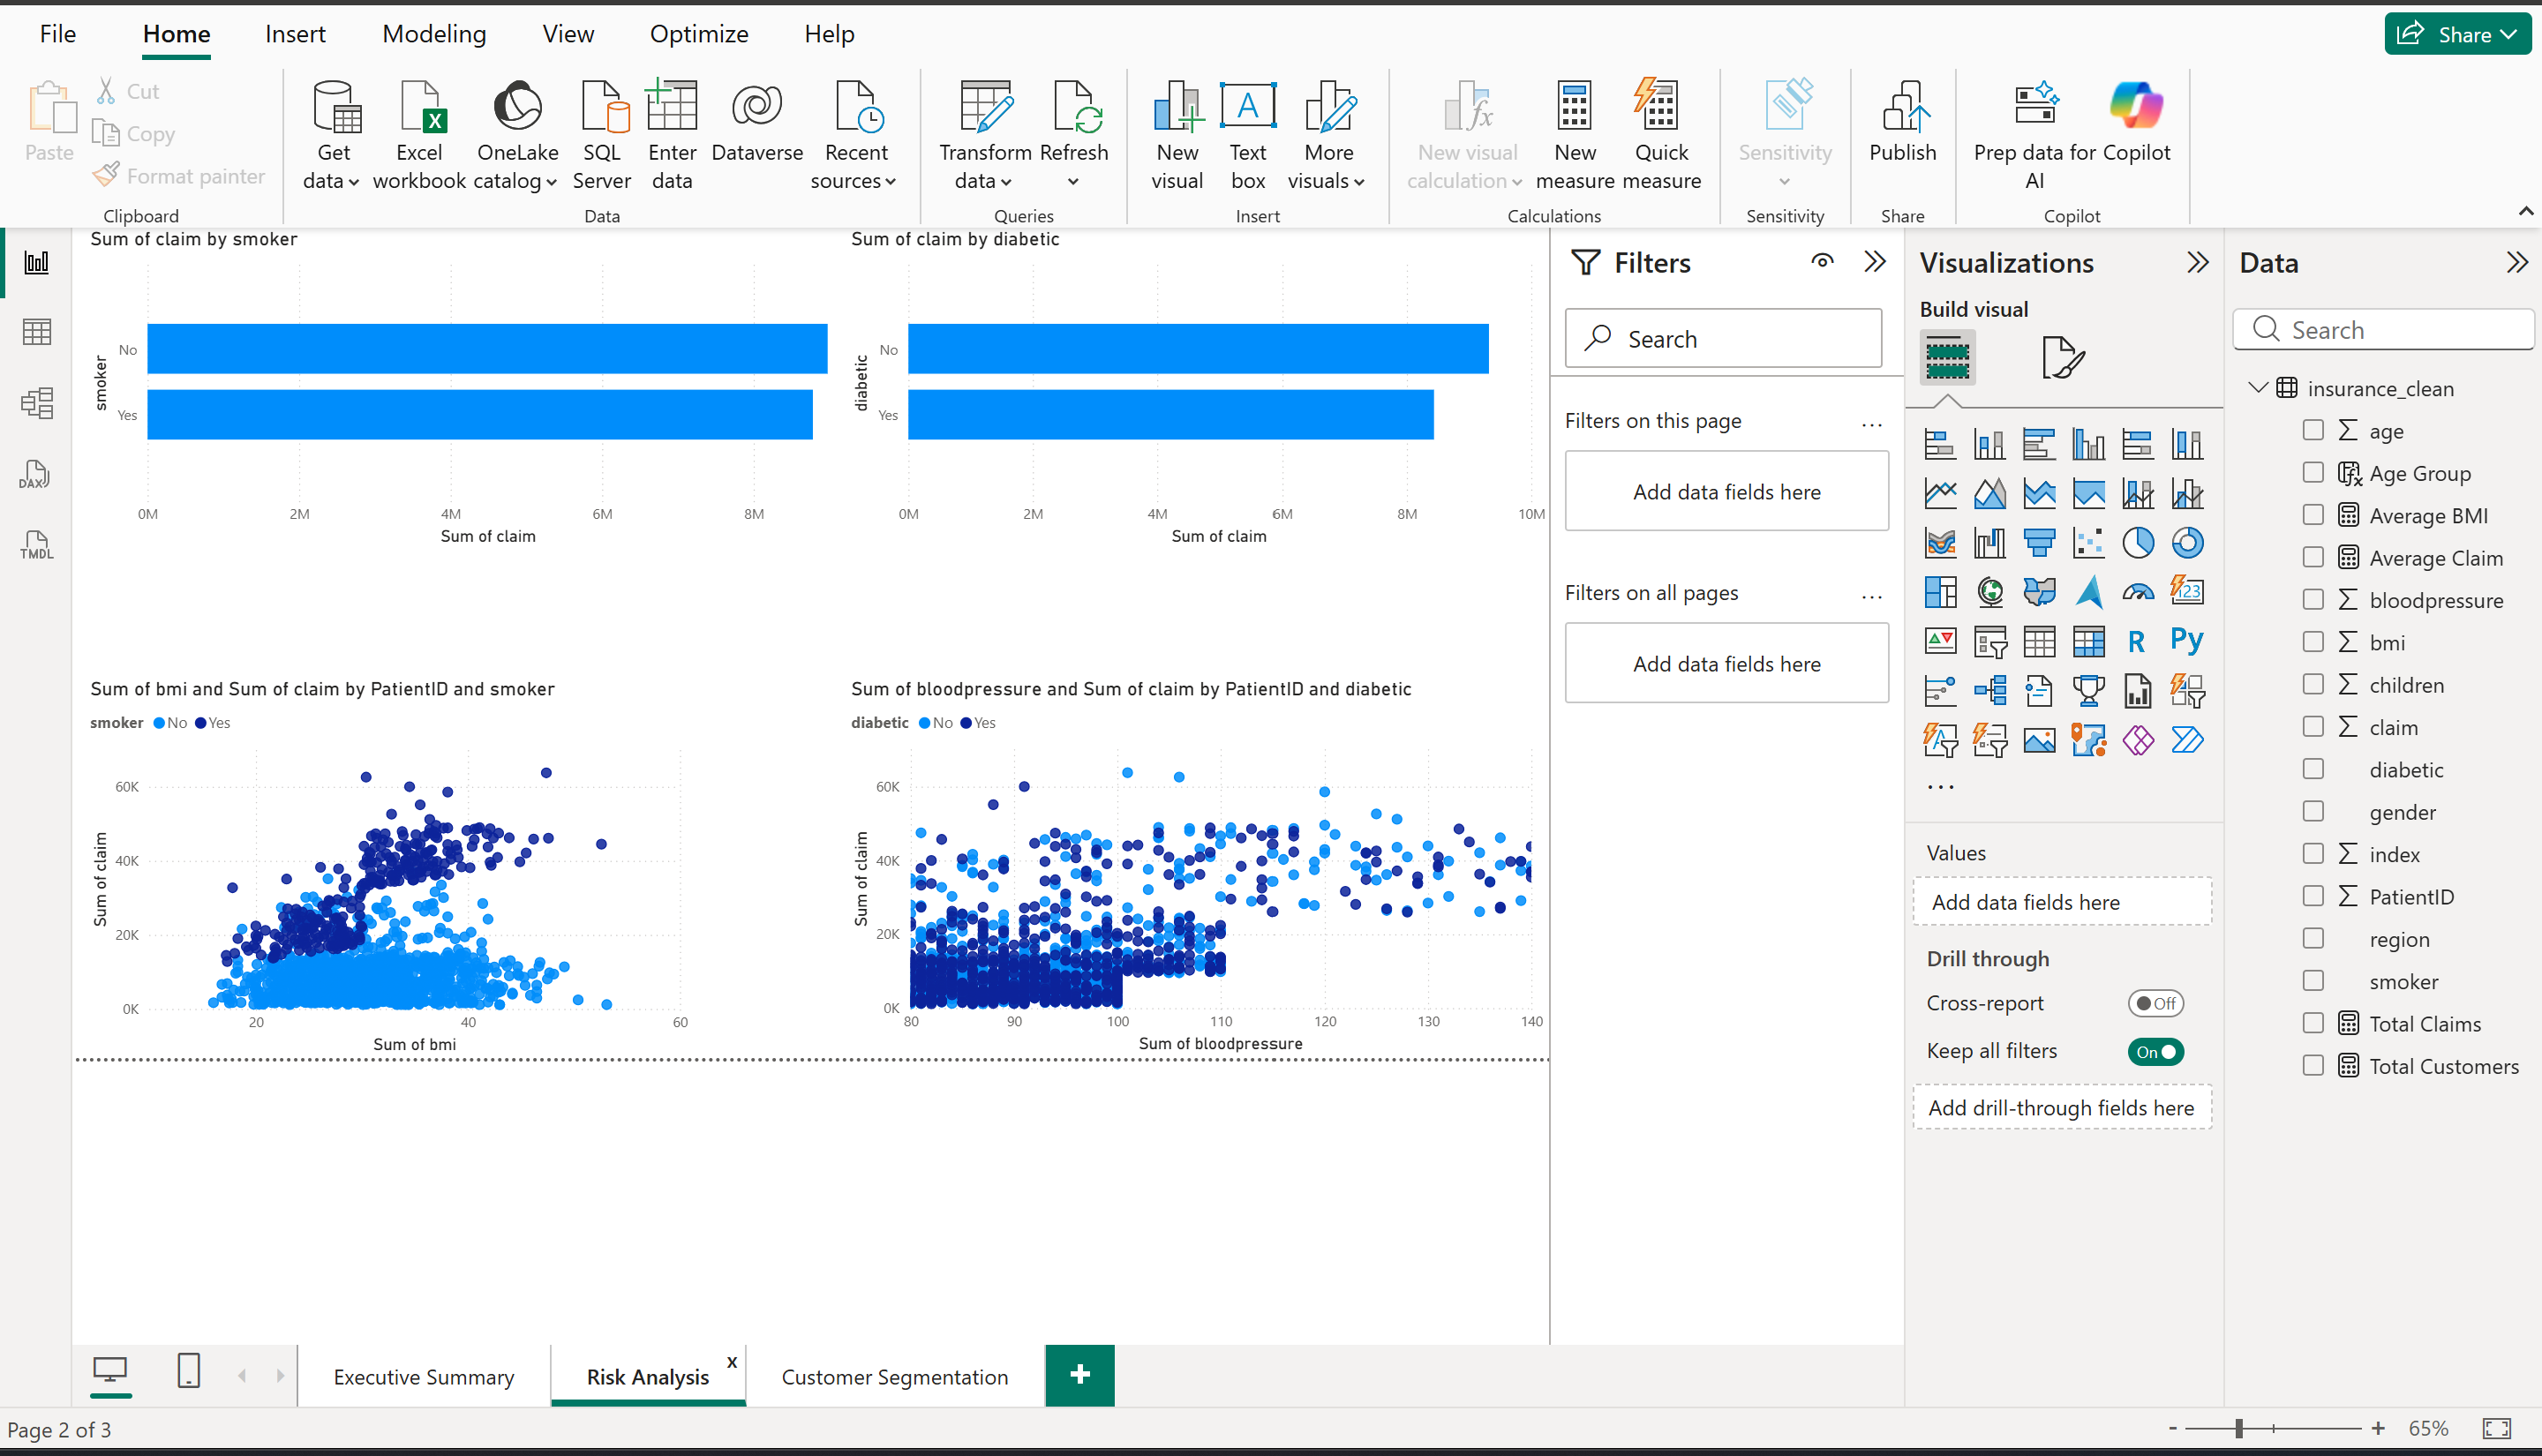

What the dashboard file says about the page in this screenshot:
{"tool":"powerbi","page":{"name":"Risk Analysis","canvas":[1280,720],"ordinal":1},"visuals":[{"type":"clusteredBarChart","fields":{"Category":["insurance_clean.smoker"],"Y":["Sum(insurance_clean.claim)"]},"box":[10.7,0,659.9,280.2],"z":0},{"type":"clusteredBarChart","fields":{"Category":["insurance_clean.diabetic"],"Y":["Sum(insurance_clean.claim)"]},"box":[670.6,0,610.9,280.2],"z":1000},{"type":"scatterChart","fields":{"X":["Sum(insurance_clean.bmi)"],"Y":["Sum(insurance_clean.claim)"],"Series":["insurance_clean.smoker"],"Category":["insurance_clean.PatientID"]},"box":[10.7,390.4,528.2,330.7],"z":2000},{"type":"scatterChart","fields":{"X":["Sum(insurance_clean.bloodpressure)"],"Y":["Sum(insurance_clean.claim)"],"Series":["insurance_clean.diabetic"],"Category":["insurance_clean.PatientID"]},"box":[671,390,609,330],"z":3000}]}

Visuals, with their boxes on the page's 1280x720 design canvas (x1, y1, x2, y2). These are canvas units, not pixel positions in the 2542x1456 screenshot, which may show the page scaled, cropped or inside an application window:
clusteredBarChart - insurance_clean.smoker x Sum(insurance_clean.claim): x1=11, y1=0, x2=671, y2=280
clusteredBarChart - insurance_clean.diabetic x Sum(insurance_clean.claim): x1=671, y1=0, x2=1282, y2=280
scatterChart - Sum(insurance_clean.bmi) x Sum(insurance_clean.claim): x1=11, y1=390, x2=539, y2=721
scatterChart - Sum(insurance_clean.bloodpressure) x Sum(insurance_clean.claim): x1=671, y1=390, x2=1280, y2=720
